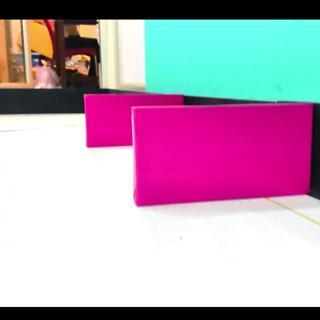xparking: (137, 108, 309, 208), (86, 95, 131, 148)
